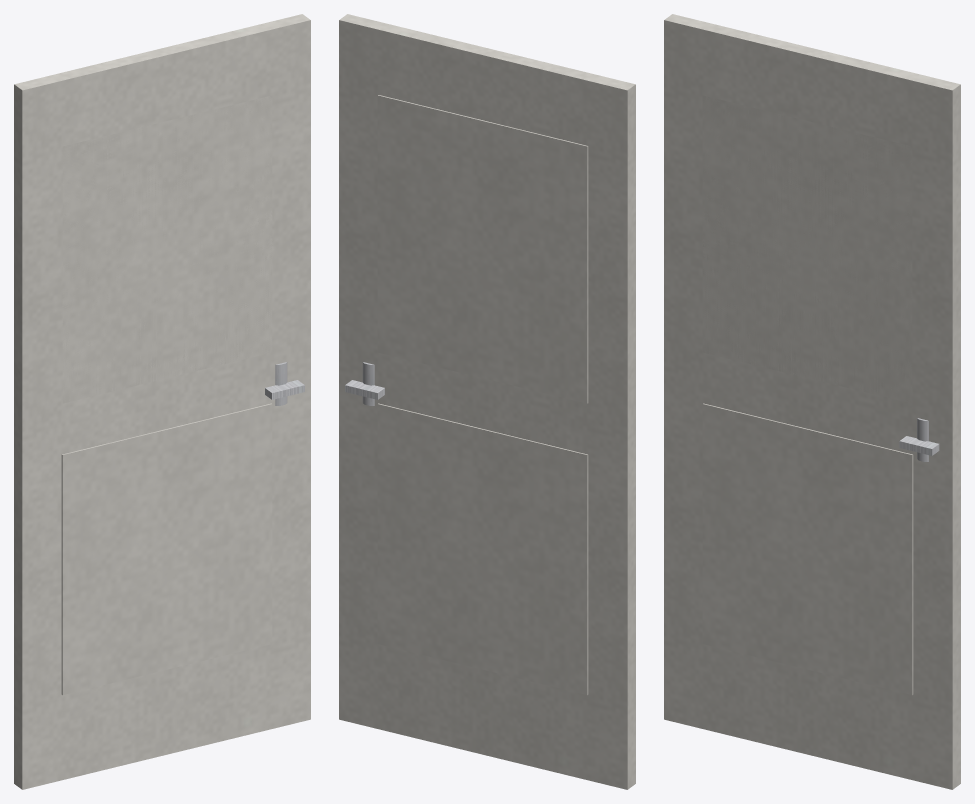
File: door_leaf.obj
3 renders of one model, left to right at view 1: azimuth 30°, elevation 25°; view 2: azimuth 150°, elevation 25°; view 3: azimuth 330°, elevation 25°, orthographic.
Parts seen in each view (by area): view 1: door_leaf; view 2: door_leaf; view 3: door_leaf.
Boxes of the visible parts, x1,y1,x2,y2 form: door_leaf: (14, 14, 310, 789); door_leaf: (339, 14, 635, 789); door_leaf: (664, 14, 960, 789).
Bounding box in the file's own units: 0.88 × 2.04 × 0.12.
3 materials, 3 textured.
